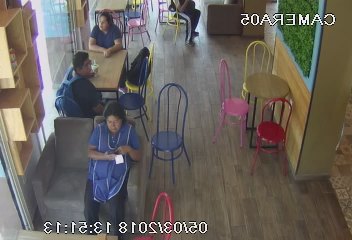libre: (208, 42, 305, 171)
ocupado: (49, 12, 162, 117)
